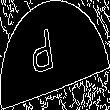P_S: (40, 26, 70, 84)
